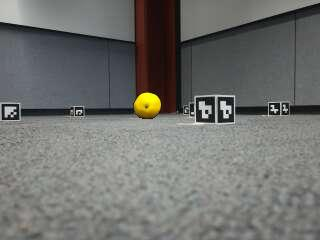lemon: (134, 94, 161, 119)
